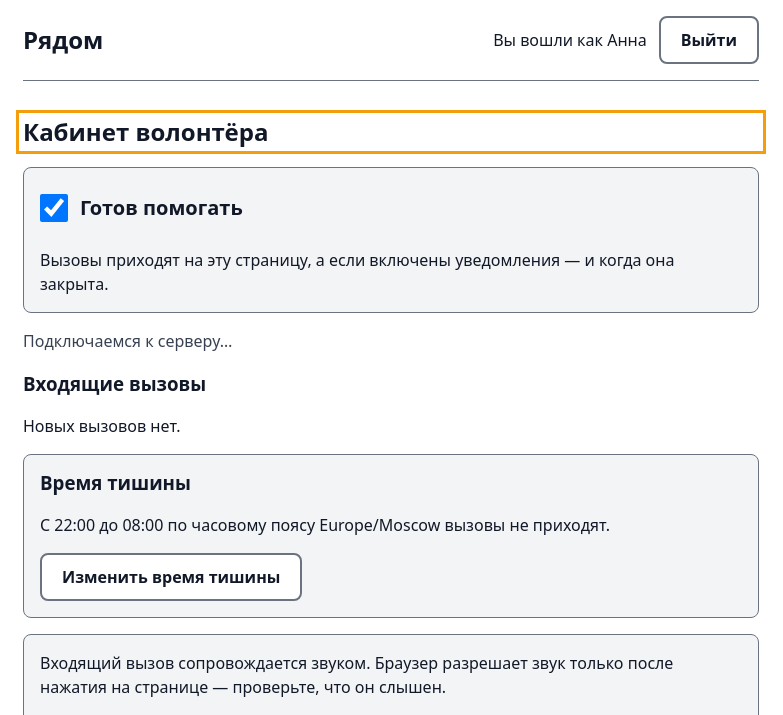
Test case: session › restores the saved login and signs out
What coordinates should you click on to do the following:
click the button "Выйти"
I would click on:
 (709, 40)
Its box is x1=659 y1=16 x2=759 y2=64.
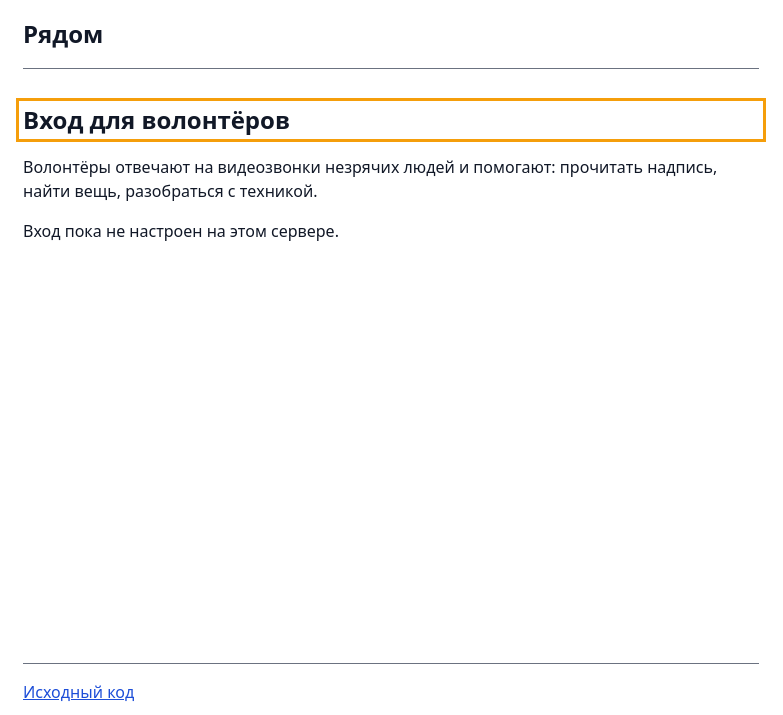
Now the heading "Вход для волонтёров" is shown, box x1=23 y1=103 x2=290 y2=136
